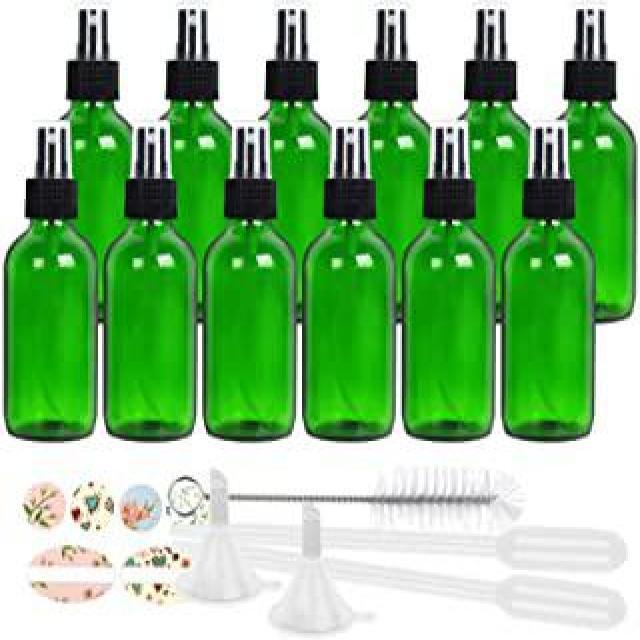Glass: (101, 220, 201, 446), (202, 220, 300, 442), (502, 217, 598, 443), (3, 220, 99, 443), (402, 220, 498, 442), (303, 218, 397, 444), (548, 99, 638, 324)
